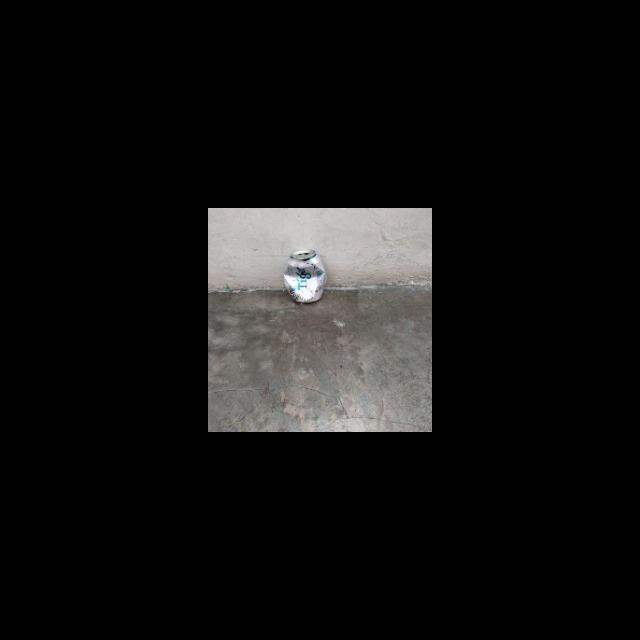metal: (271, 246, 339, 313)
